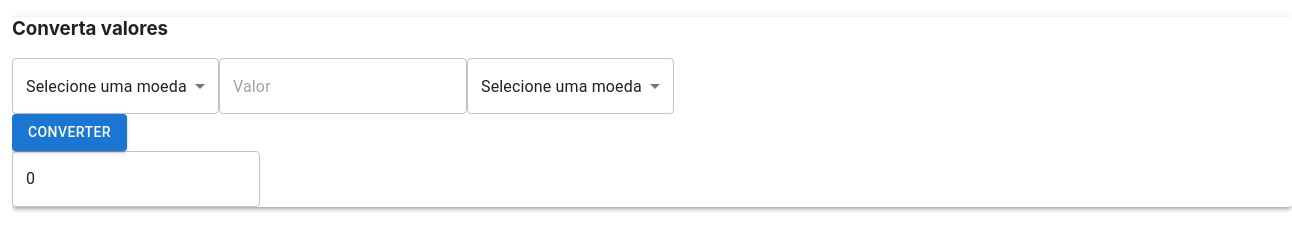
Componente Calculadora, simulando taxa fixa de cambio › se converte corretamente
In the field with placeholder "Valor": [343, 86] box x1=219 y1=58 x2=467 y2=114, type "10"
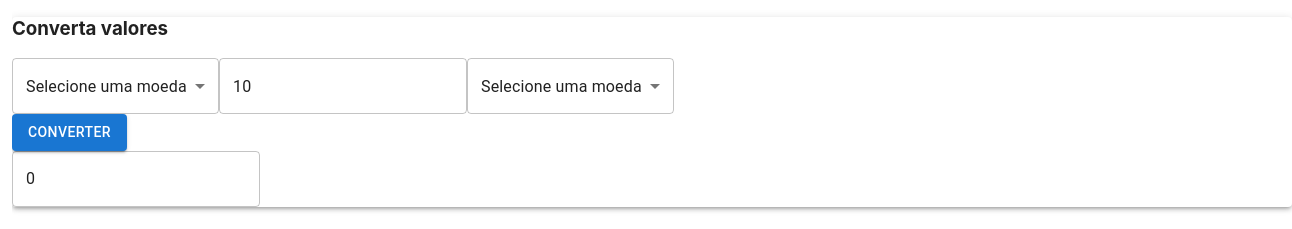
Select "USD" in the 1st dropdown: [116, 86] box x1=12 y1=58 x2=219 y2=114
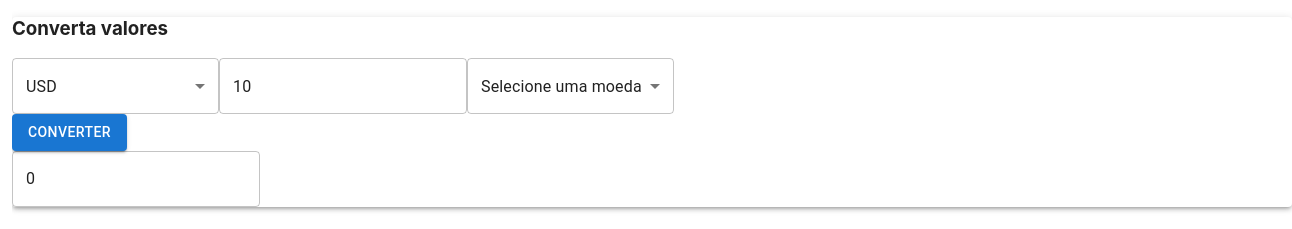
Select "BRL" in the 2nd dropdown: [570, 86] box x1=467 y1=58 x2=674 y2=114
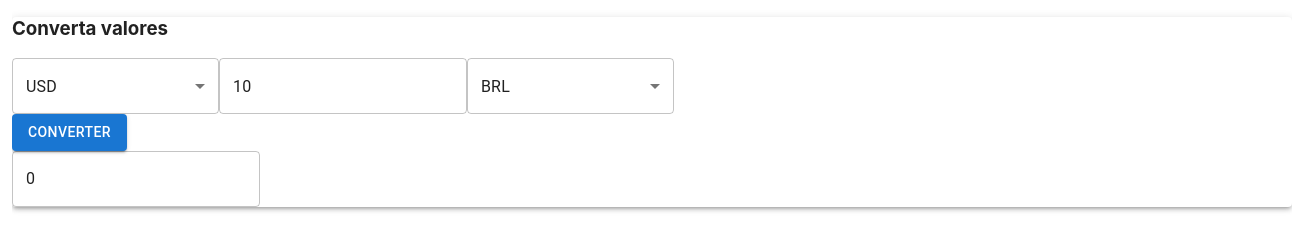
Click the button "Converter": [69, 133] box x1=12 y1=114 x2=127 y2=151
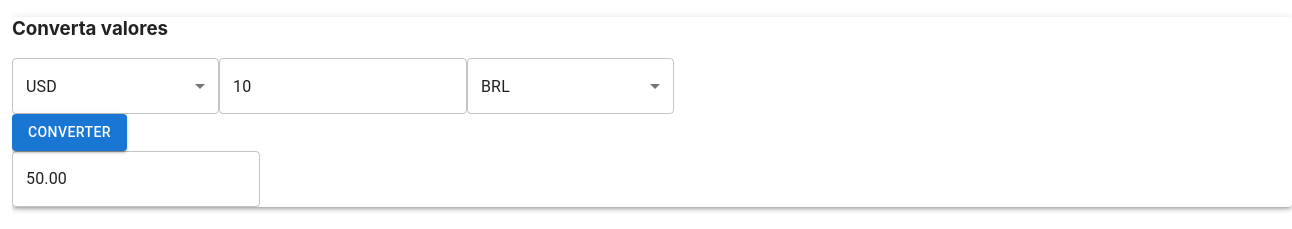
Expected: the 2nd field showing "50.00" is shown, x1=12 y1=151 x2=260 y2=207
